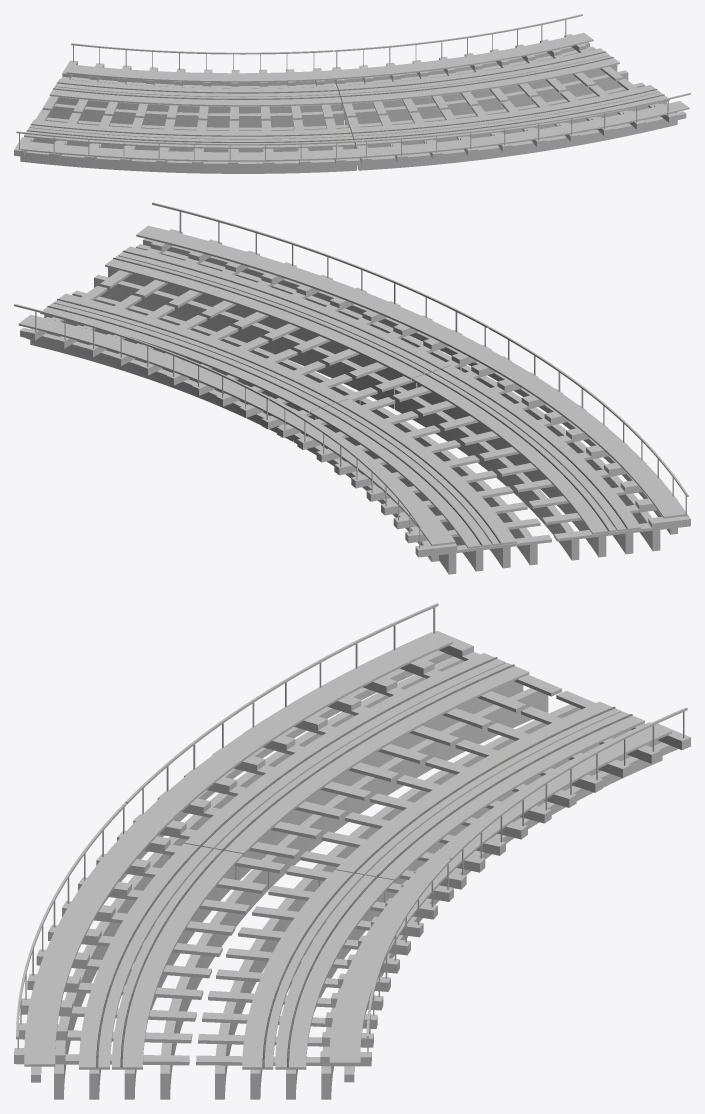
The model's file is DT_Railbridge_TurnR_01.fbx.
3 renders of one model, top to bottom at view 1: azimuth 30°, elevation 25°; view 2: azimuth 150°, elevation 25°; view 3: azimuth 270°, elevation 25°, orthographic. The views are drawn at different scales.
Parts seen in each view (by area): view 1: DT_Railbridge_TurnR_01; view 2: DT_Railbridge_TurnR_01; view 3: DT_Railbridge_TurnR_01.
Boxes of the visible parts, <box> form: DT_Railbridge_TurnR_01: <box>14,14,690,173</box>; DT_Railbridge_TurnR_01: <box>14,202,690,574</box>; DT_Railbridge_TurnR_01: <box>14,603,690,1099</box>.
Bounding box in the file's own units: 4117 × 283 × 2701.
